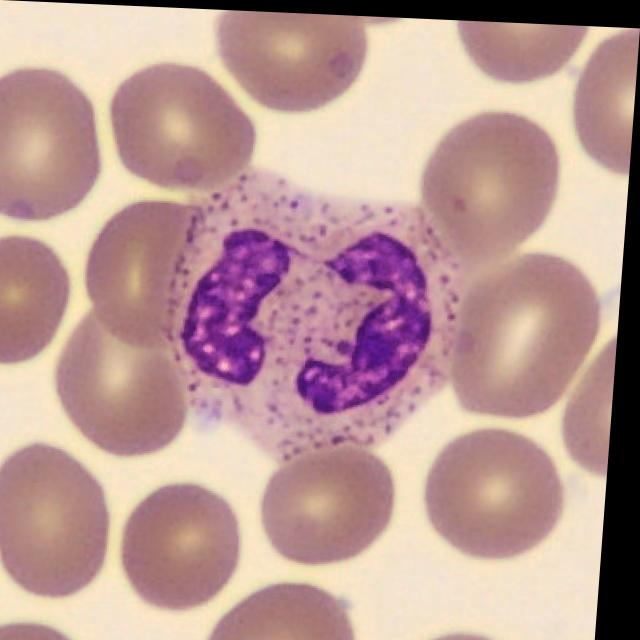Neutrofilo segmentado: (167, 168, 466, 456)
